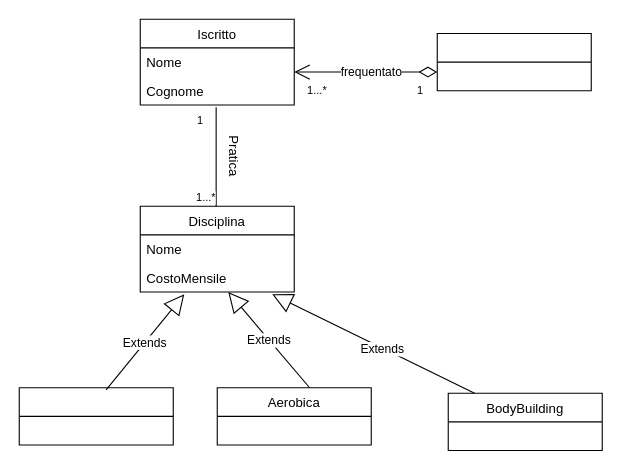
Some shapes in this 622 by 470 pixel diagram are drawn without their labels. The shapes that lost their labels are listed below. From the top down, each one's centre as x and y in pixels, then its label:
(x=513, y=61): CircoloSportivo
(x=95, y=416): Nuoto
